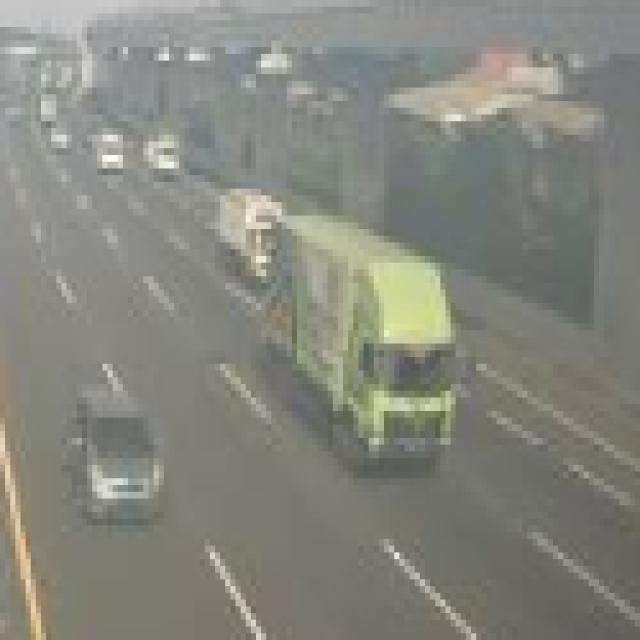car: (65, 380, 164, 535)
truck: (255, 202, 489, 478)
